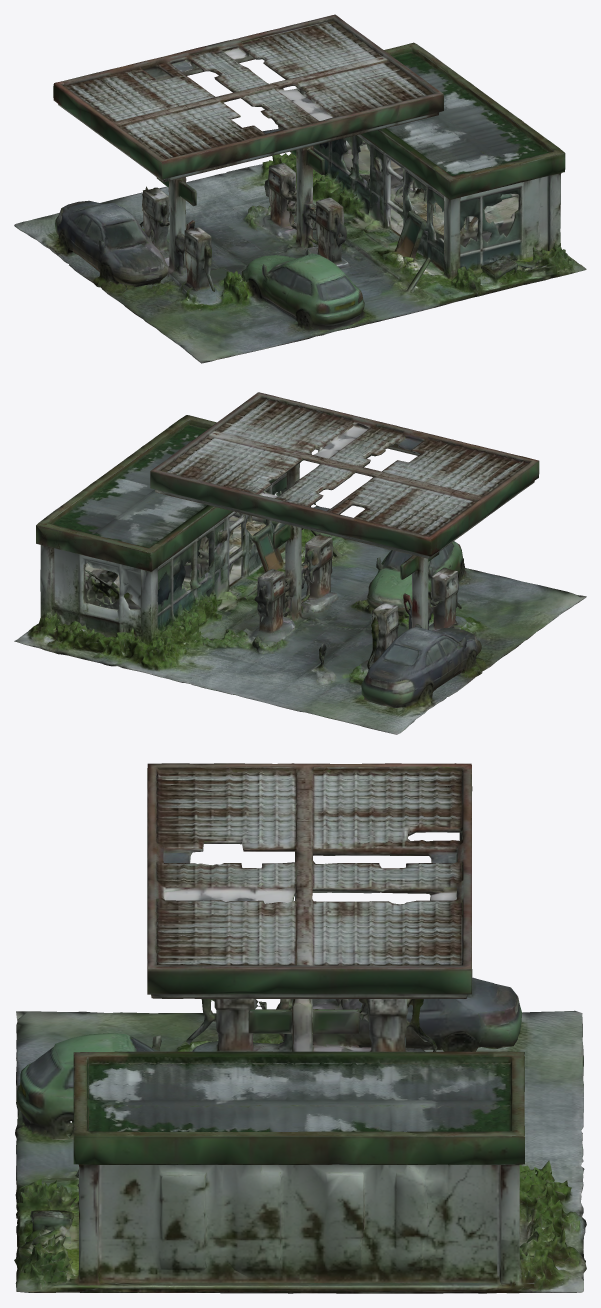
The model's file is building_petrolstation.glb.
3 views of the same model, one above another, from view 1: azimuth 30°, elevation 25°; view 2: azimuth 150°, elevation 25°; view 3: azimuth 270°, elevation 25° (orthographic). The views are drawn at different scales.
Visible parts, largest first — view 1: Mesh_0; view 2: Mesh_0; view 3: Mesh_0.
Part boxes in pixels (x1,y1,x2,y2): Mesh_0: (14,14,586,363); Mesh_0: (14,392,586,734); Mesh_0: (14,763,586,1293).
Bounding box in the file's own units: 1.91 × 0.8222 × 1.64.
1 material, 1 textured.
